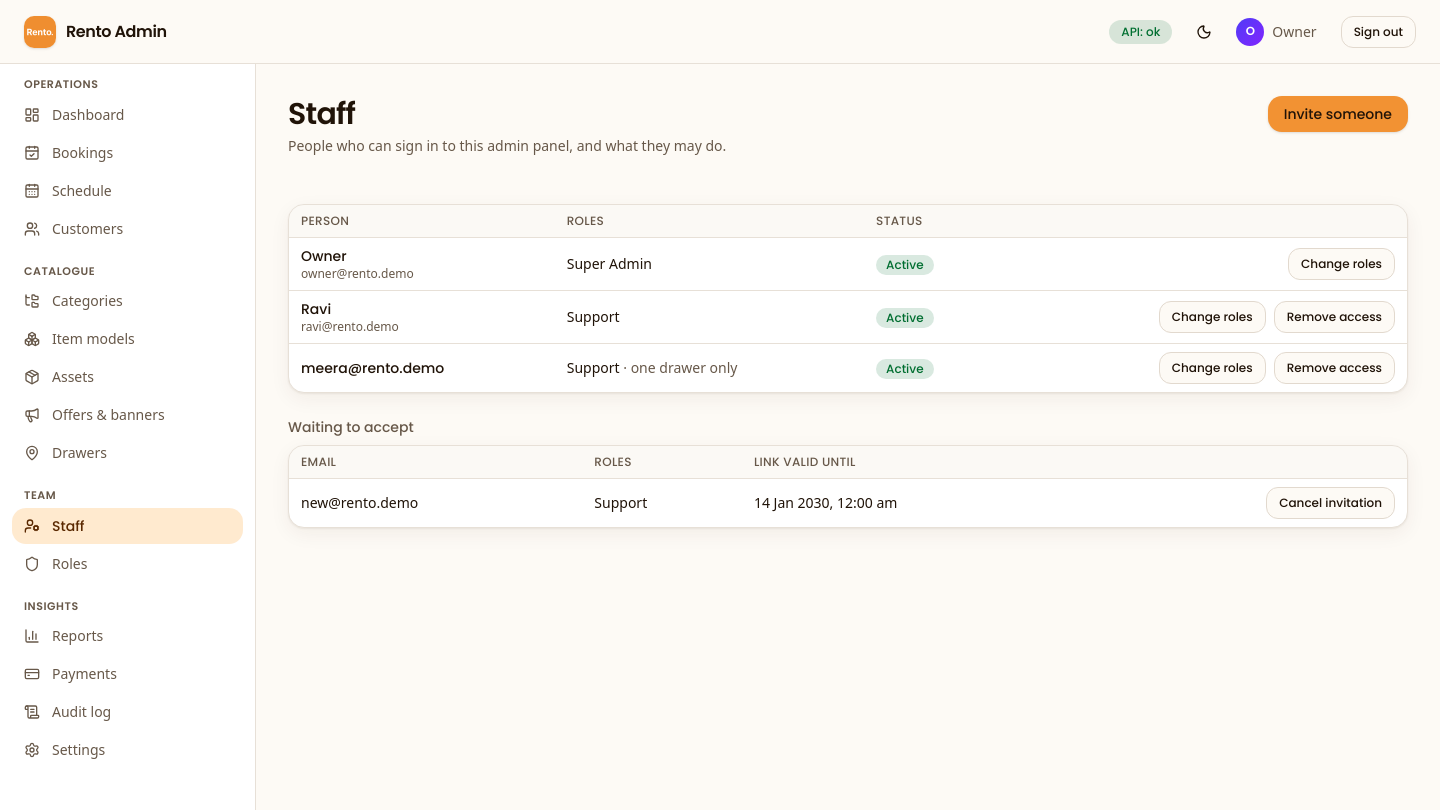
it: staff › T-06 a taken email is explained by the server
This screenshot has width=1440, height=810.
Click the button "Invite someone" at (1338, 114), box [1268,96,1408,132]
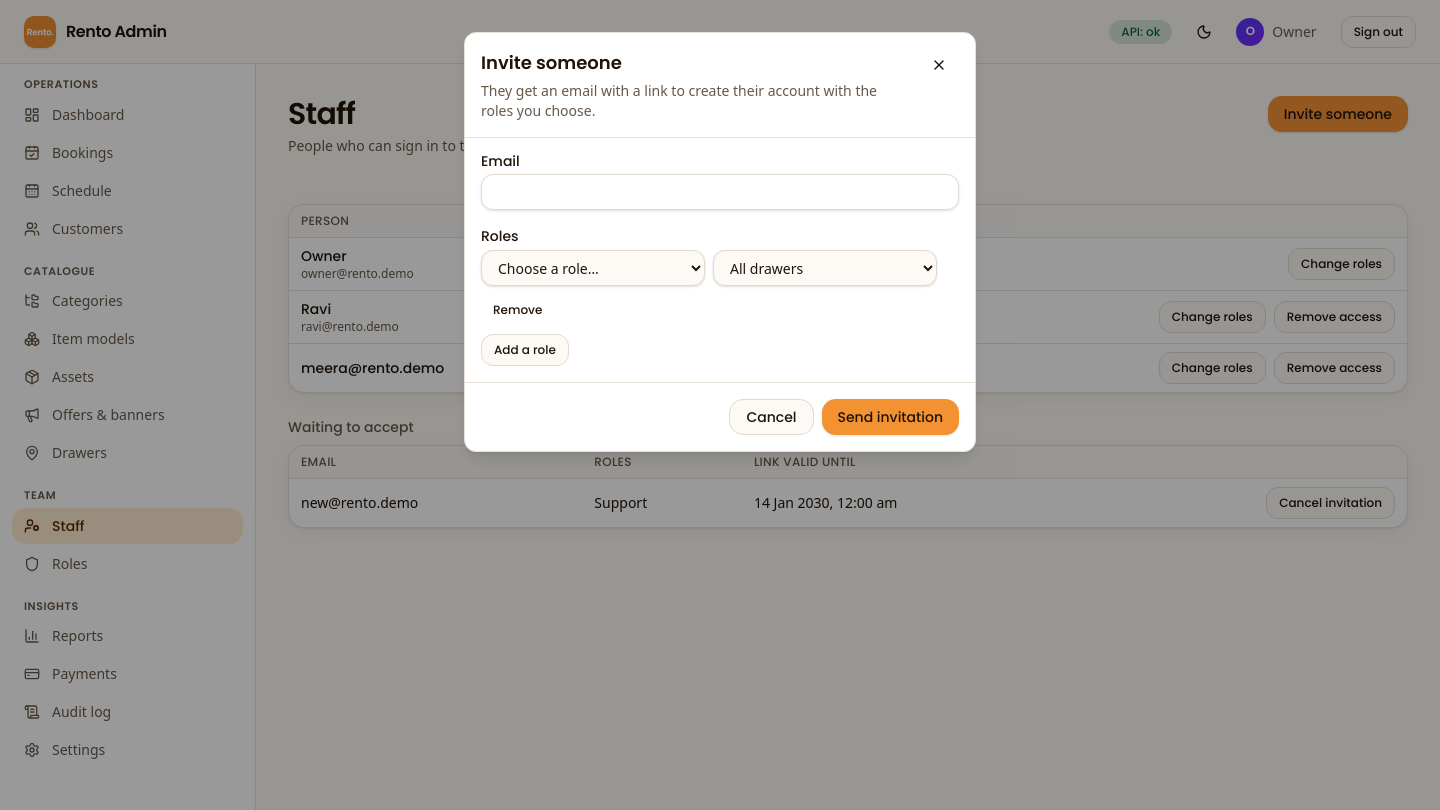
Type "ravi@rento.demo" into the field labelled "Email" at (720, 192), box [481,174,959,210]
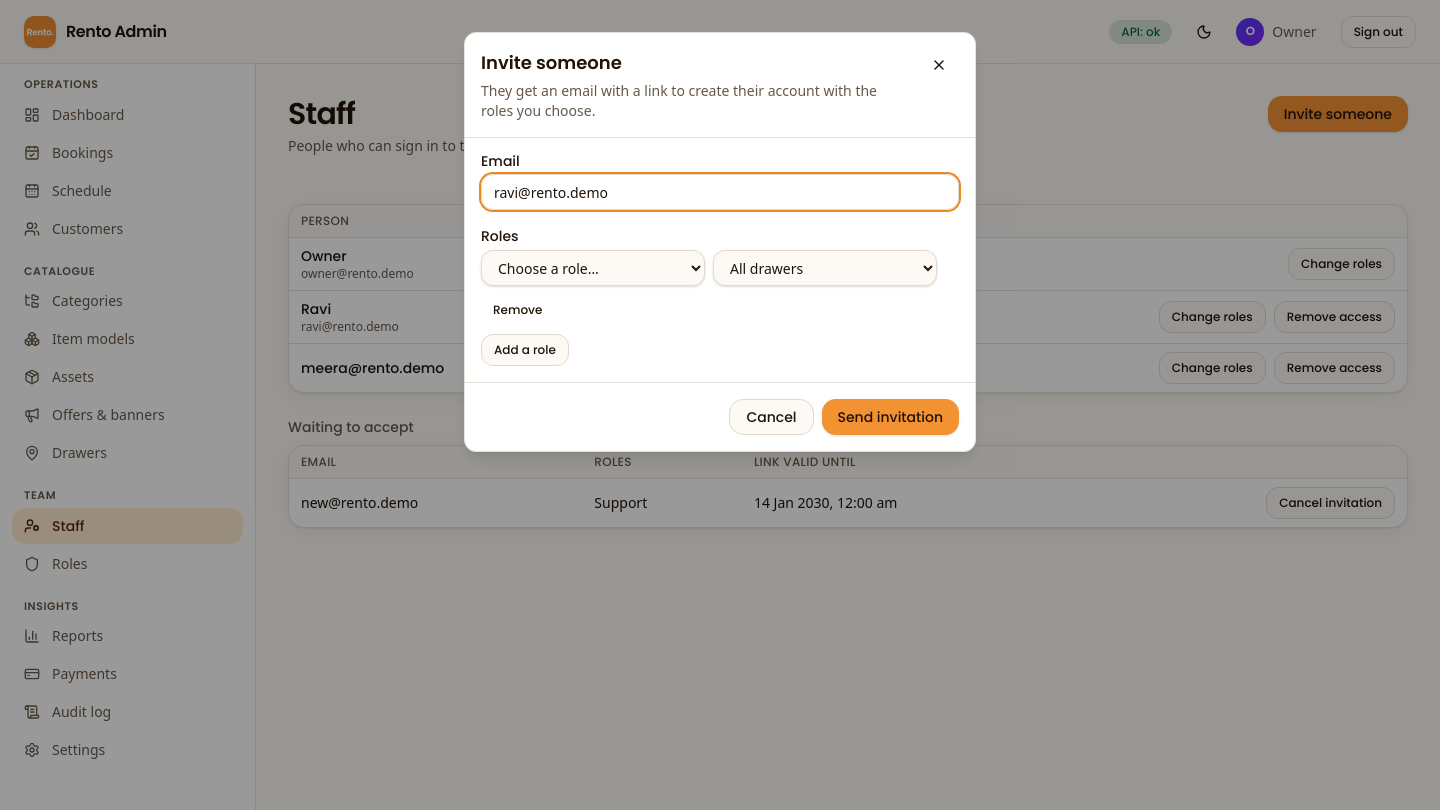
Select "Support" in the dropdown named "Role 1" at (593, 268), box [481,250,705,286]
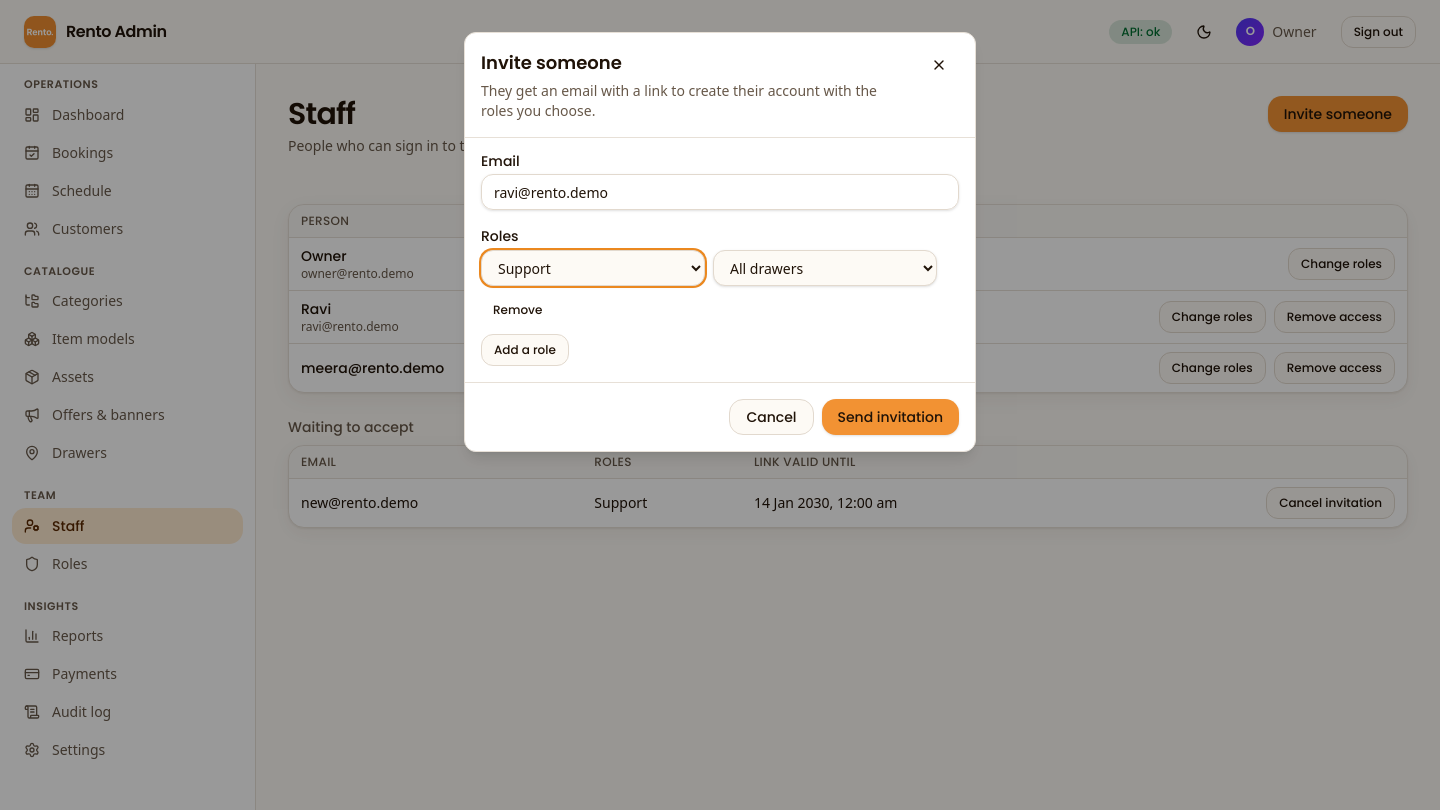
Click the button "Send invitation" at (890, 417), box [822,399,959,435]
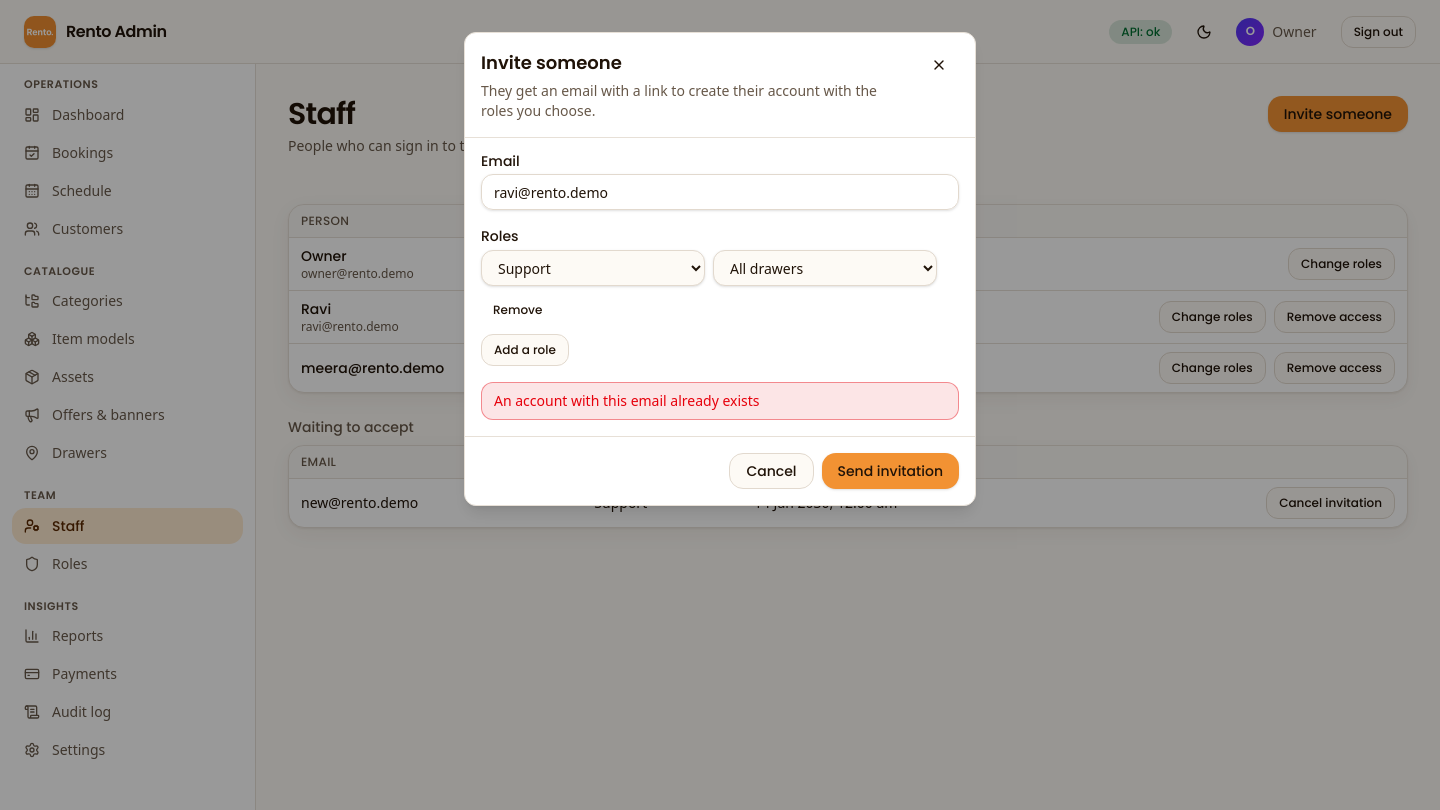
Result: the message reads "An account with this email already exists" at [494,391,760,410]
